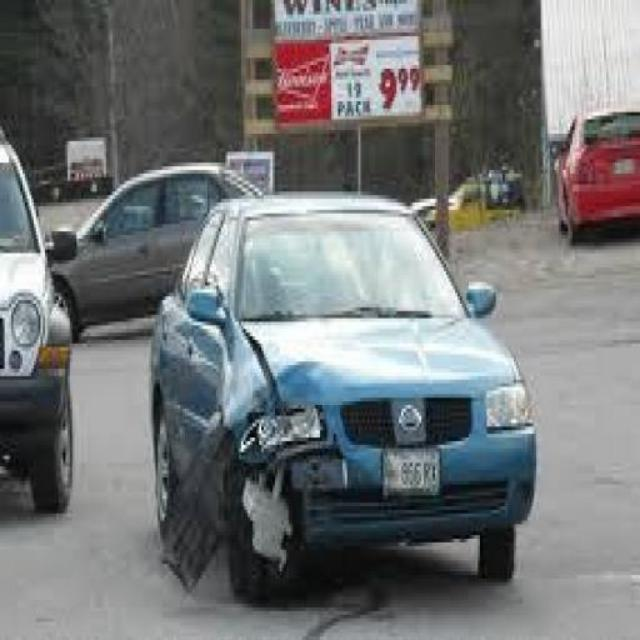dislocated part: (167, 332, 339, 595)
